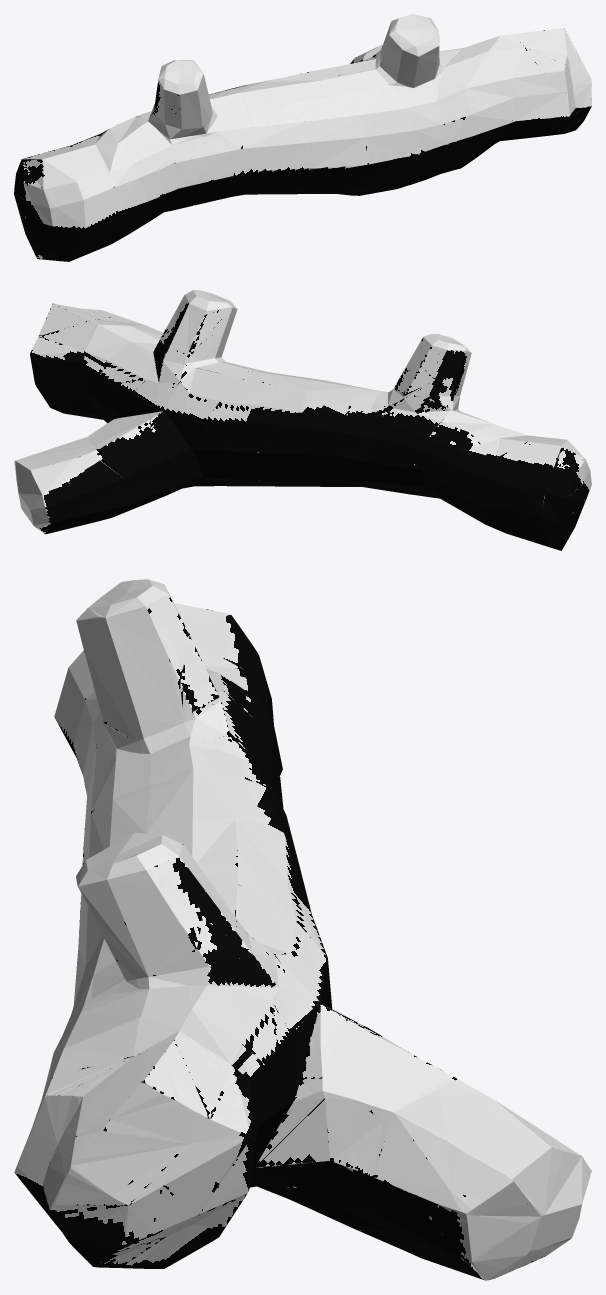
The picture shows the model from 3 angles, top to bottom: view 1: azimuth 30°, elevation 25°; view 2: azimuth 150°, elevation 25°; view 3: azimuth 270°, elevation 25°; orthographic projection. The views are drawn at different scales.
Visible parts, largest first — view 1: OBJ0cd; view 2: OBJ0cd; view 3: OBJ0cd.
Part boxes in pixels (bbox=[...]): OBJ0cd: bbox=[14, 14, 591, 261]; OBJ0cd: bbox=[14, 290, 591, 550]; OBJ0cd: bbox=[14, 579, 591, 1280].
Size of the model in its own units: 0.2622 by 0.0894 by 0.1207.
1 material, 1 textured.
